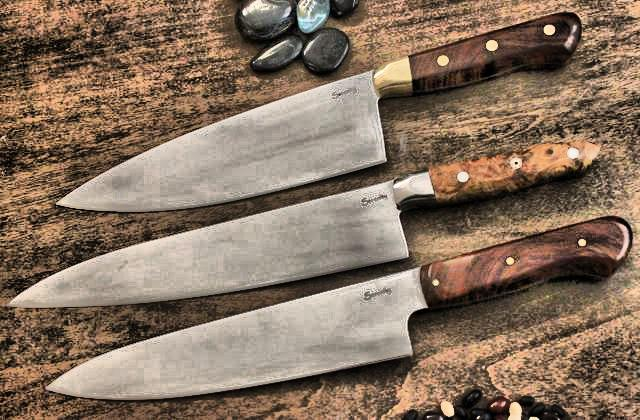knife: (3, 175, 383, 315), (42, 268, 396, 404), (52, 63, 364, 216)
